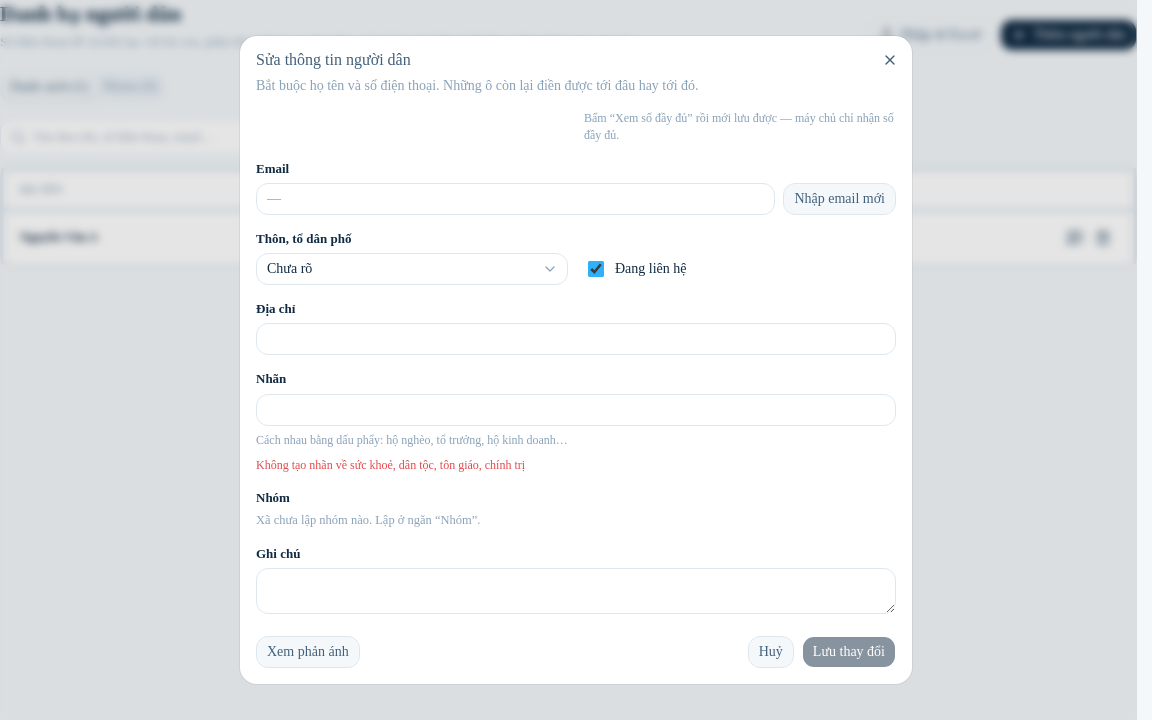
Test: “Xem phản ánh” on the directory (citizen.read + feedback.read) › an editor with feedback.read: “Xem phản ánh” in the edit dialog opens the same list
This screenshot has width=1152, height=720.
(page scrolled)
Click the button "Xem phản ánh" at (308, 652), box [256,636,360,668]
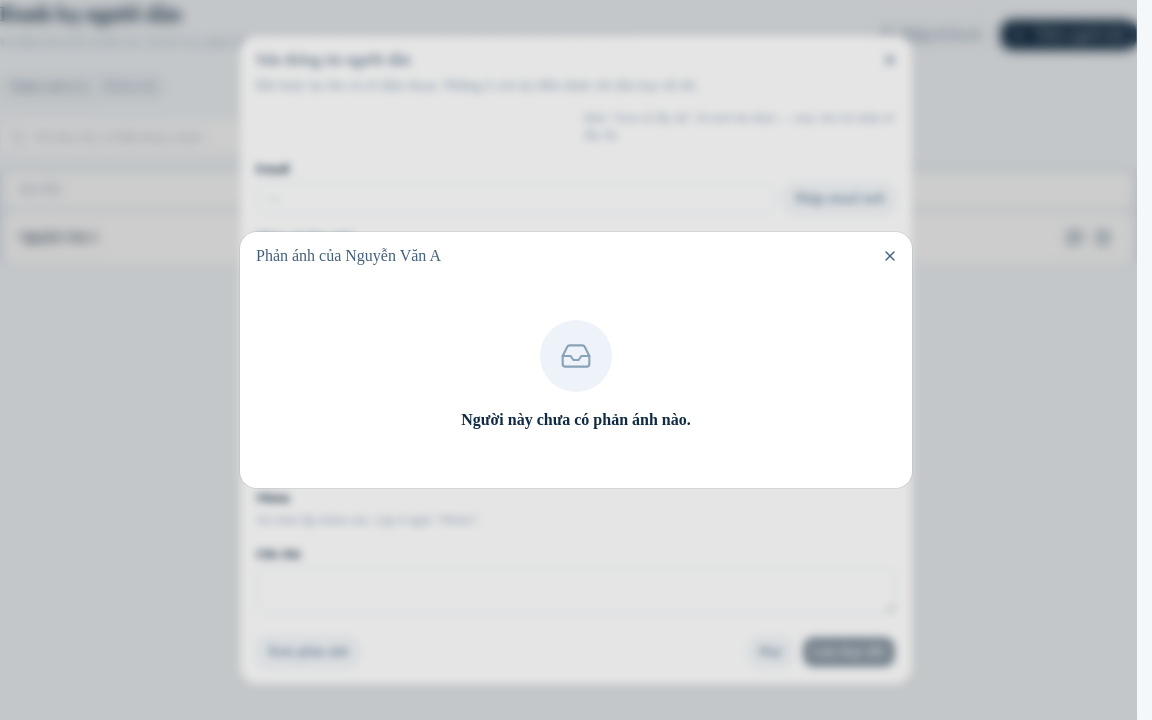
Check: the text "Người này chưa có phản ánh nào." is shown, box [461,408,691,432]
